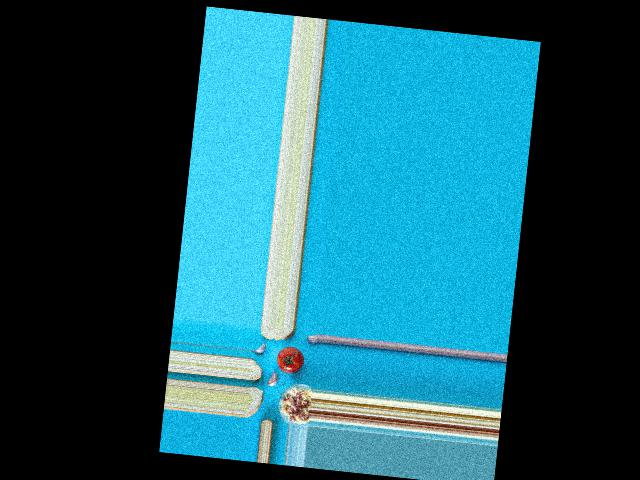tomato: (275, 345, 305, 373)
